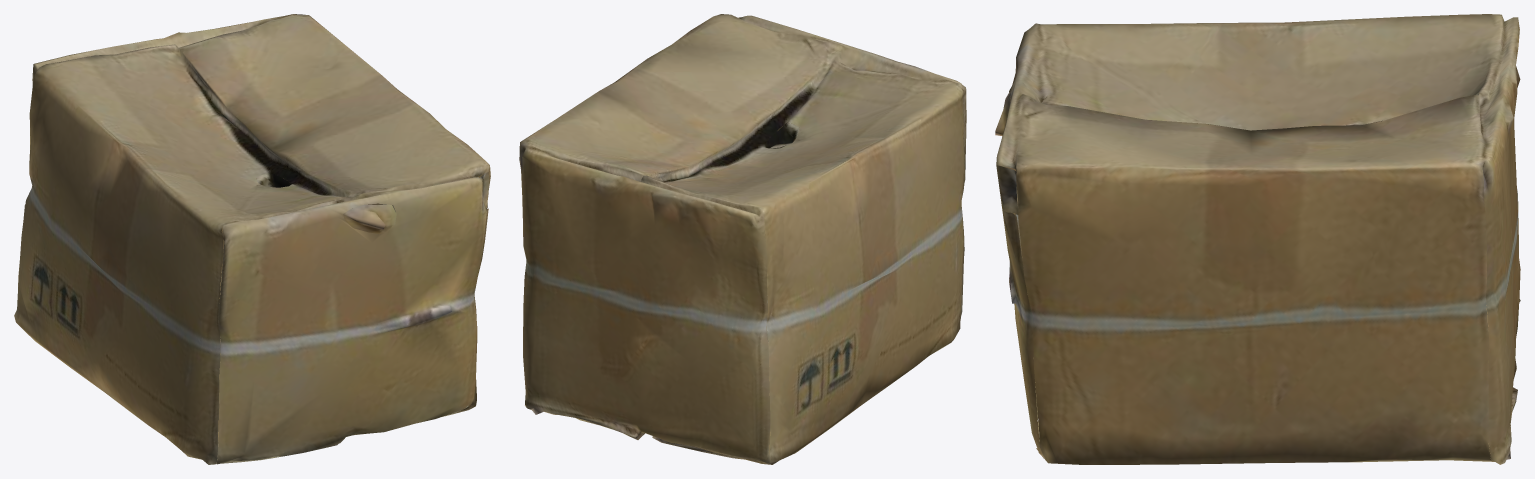
File: cardboard_box_01.glb
The picture shows the model from 3 angles, left to right: view 1: azimuth 30°, elevation 25°; view 2: azimuth 150°, elevation 25°; view 3: azimuth 270°, elevation 25°; orthographic projection. The views are drawn at different scales.
Parts seen in each view (by area): view 1: cardboard_box_01; view 2: cardboard_box_01; view 3: cardboard_box_01.
Boxes of the visible parts, x1,y1,x2,y2 form: cardboard_box_01: (14, 14, 490, 464); cardboard_box_01: (519, 14, 966, 464); cardboard_box_01: (995, 14, 1520, 464).
Bounding box in the file's own units: 0.3872 × 0.3406 × 0.515.
Materials: 1 (1 with a texture image).
